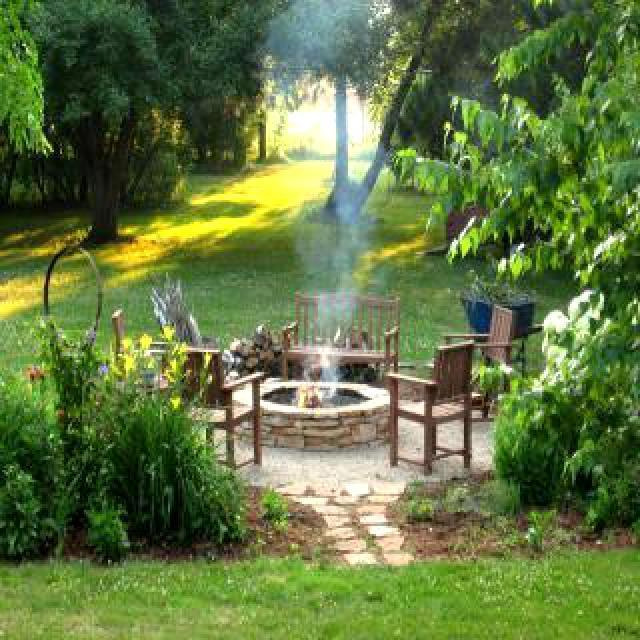Smoke: (284, 16, 402, 387)
